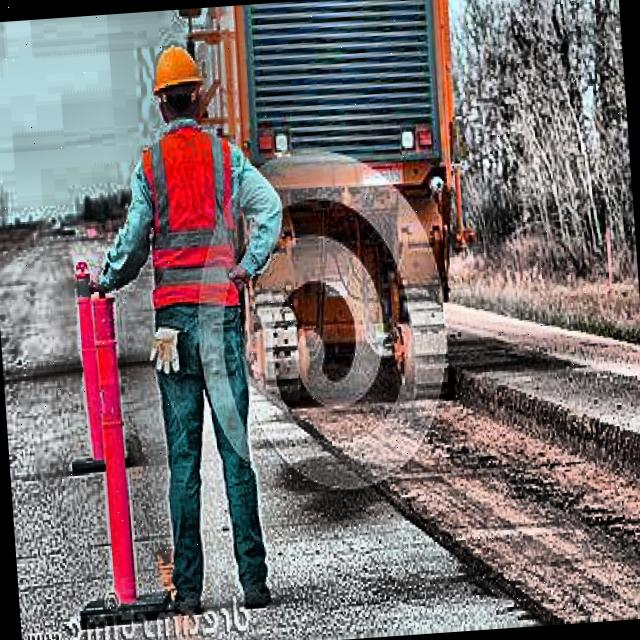helmet: (142, 33, 214, 133)
